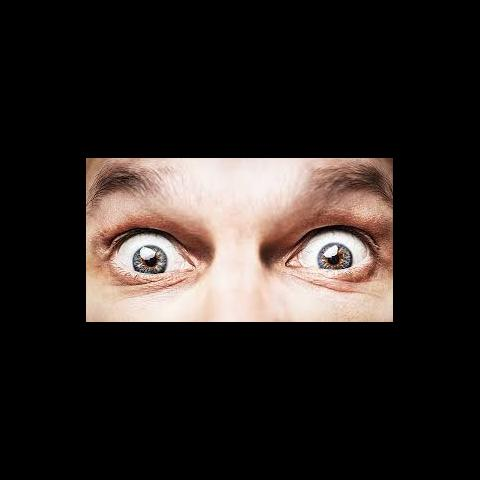opened: (96, 182, 385, 296)
